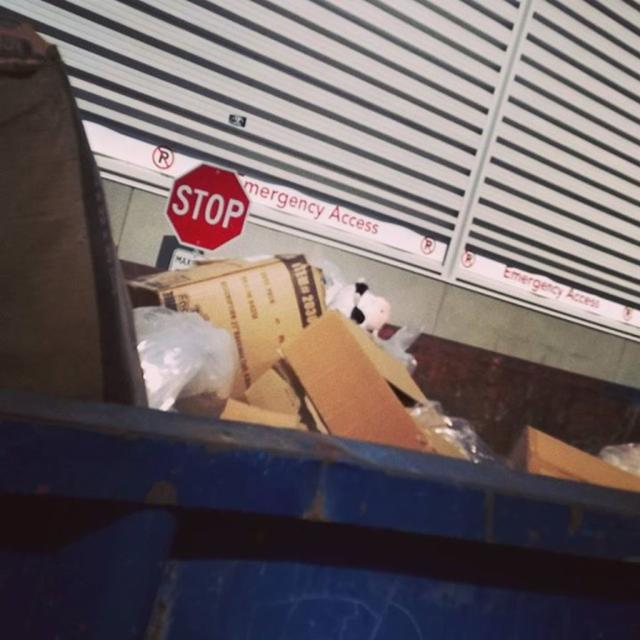Stop-sign: (167, 160, 250, 252)
